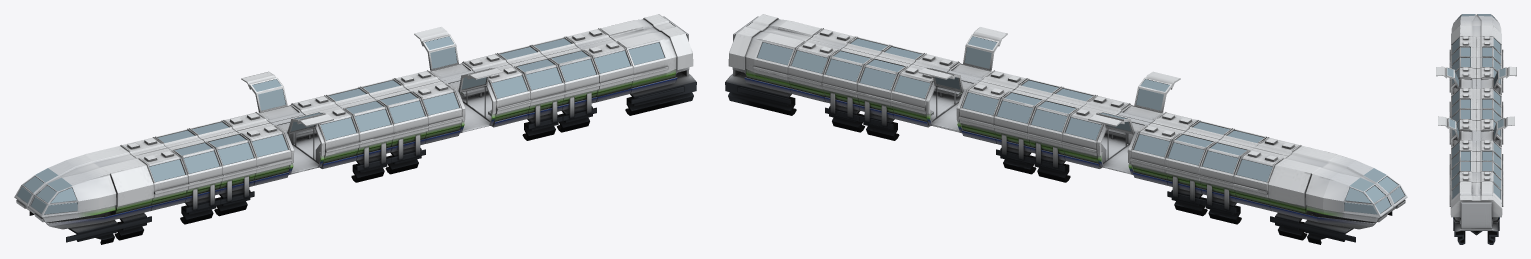
File: train.glb
3 views of the same model, side by side, from view 1: azimuth 30°, elevation 25°; view 2: azimuth 150°, elevation 25°; view 3: azimuth 270°, elevation 25° (orthographic). The views are drawn at different scales.
Size of the model in its own units: 49.46 by 6.68 by 8.53.
Materials: 3 (2 with a texture image).
